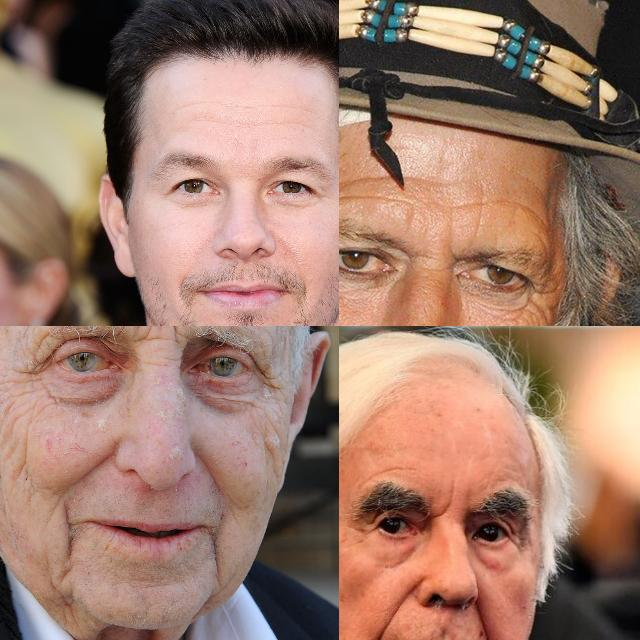crows_feet: (15, 351, 50, 402), (526, 275, 558, 321), (250, 361, 282, 405)
forehead: (190, 100, 314, 130), (339, 177, 387, 209), (492, 190, 540, 220), (369, 458, 426, 479), (471, 186, 492, 234)
frown_line: (132, 326, 185, 347), (436, 485, 456, 523)
gummy_smile: (58, 443, 119, 491), (374, 581, 411, 637), (196, 454, 228, 500), (469, 601, 495, 640)
masseter: (6, 412, 36, 488), (260, 432, 282, 484)
sad_smile: (52, 502, 84, 560), (204, 520, 226, 584)
